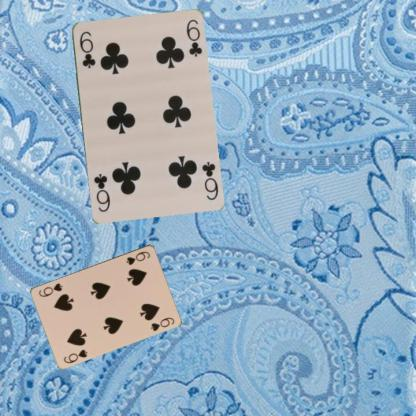6c: (198, 158, 219, 201), (76, 29, 96, 70)
6s: (124, 248, 151, 266), (61, 347, 89, 364)
